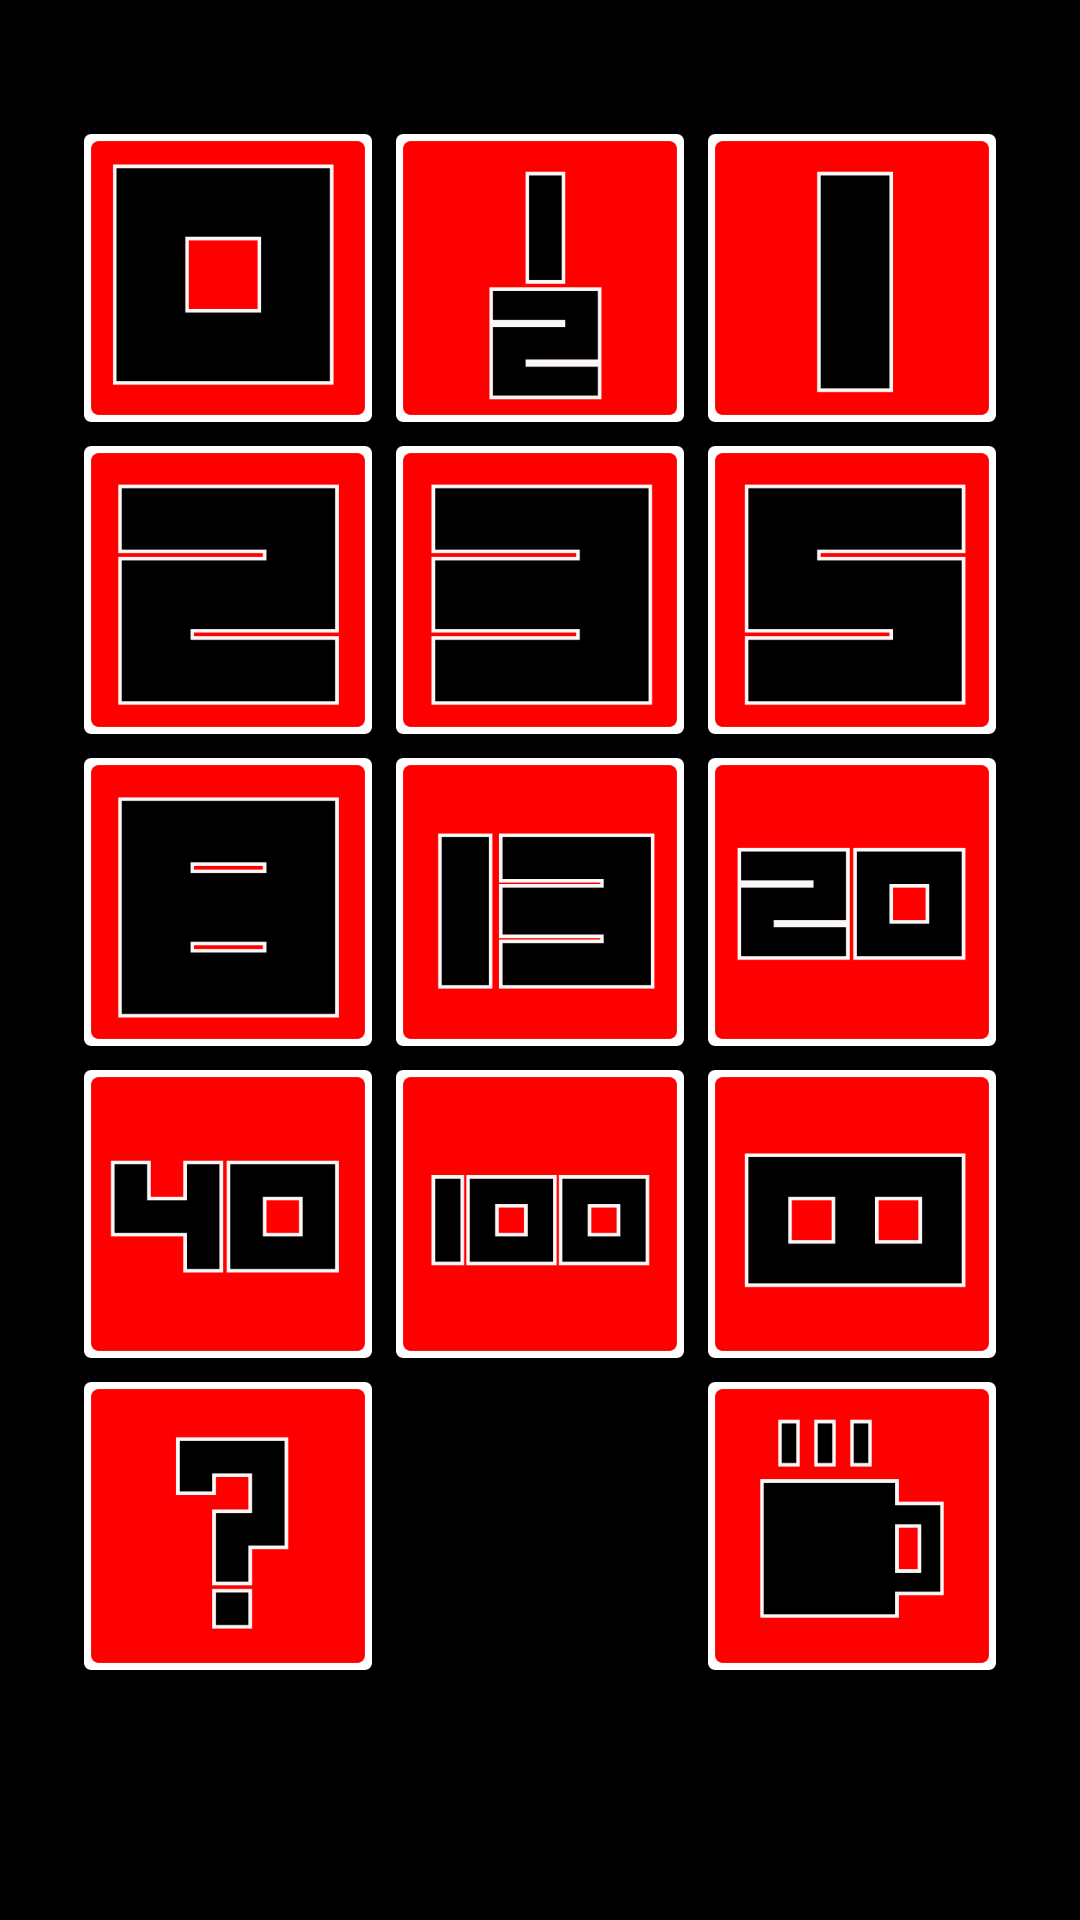

Named icons in this screenshot (1080w x 1920h) and their bounding boxes, (x1, y1, x2, y2):
scrum coffee: (708, 1382, 996, 1670)
scrum inf: (708, 1070, 996, 1358)
scrum qm: (84, 1382, 372, 1670)
